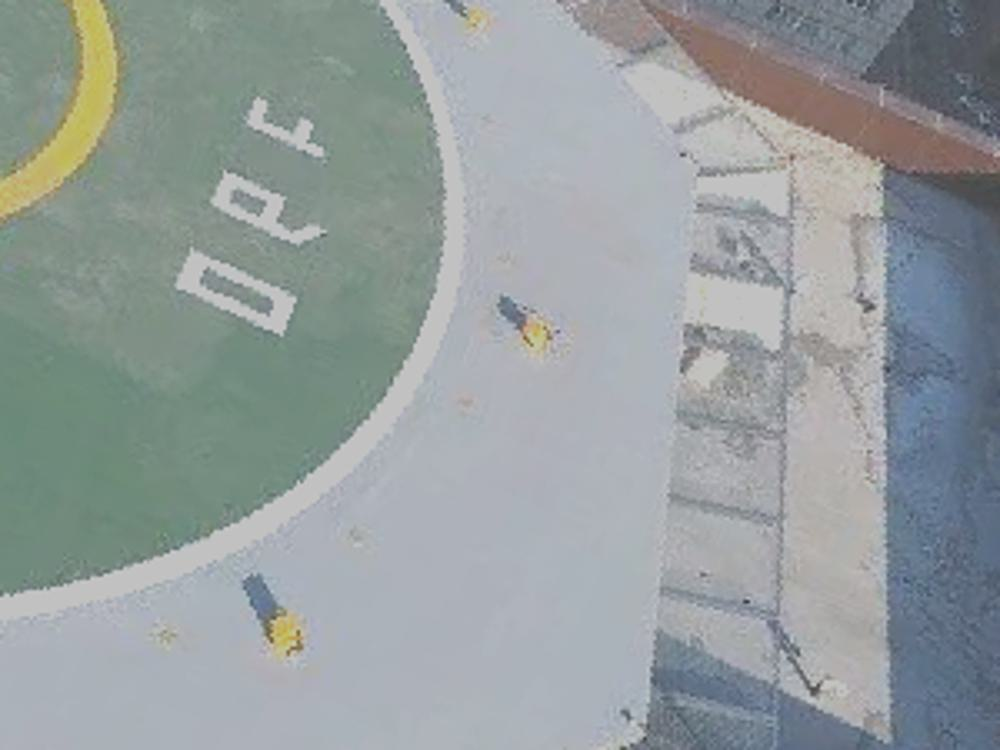Apron: (1, 1, 125, 233)
